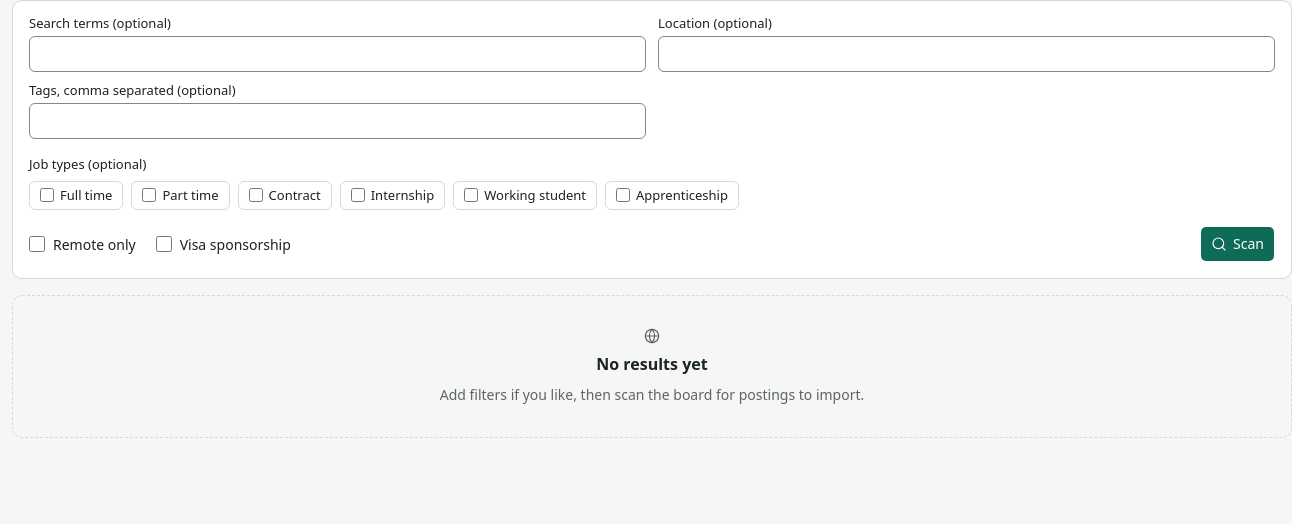
Test: ArbeitnowPage import › imports one row by its opaque id and disables its button after the import
What coordinates should you click on to do the following:
click the button with test id "arbeitnowScanButton"
I would click on:
 (1238, 244)
Its box is x1=1200 y1=226 x2=1275 y2=262.
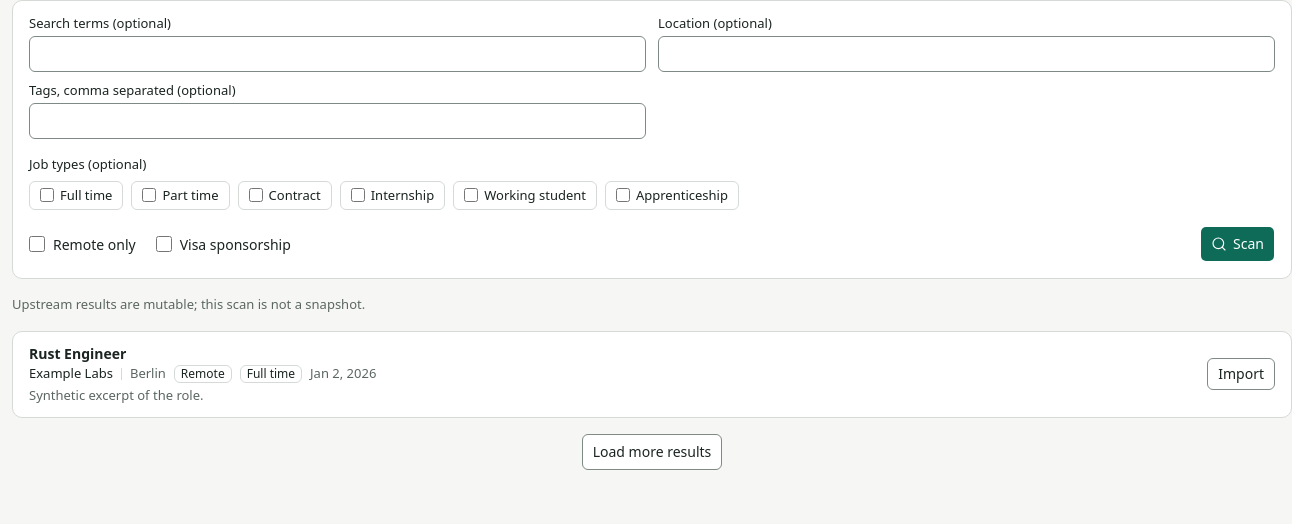
What coordinates should you click on to do the following:
click the button with test id "arbeitnowImportButton"
I would click on:
 (1241, 374)
Its box is x1=1207 y1=358 x2=1275 y2=390.
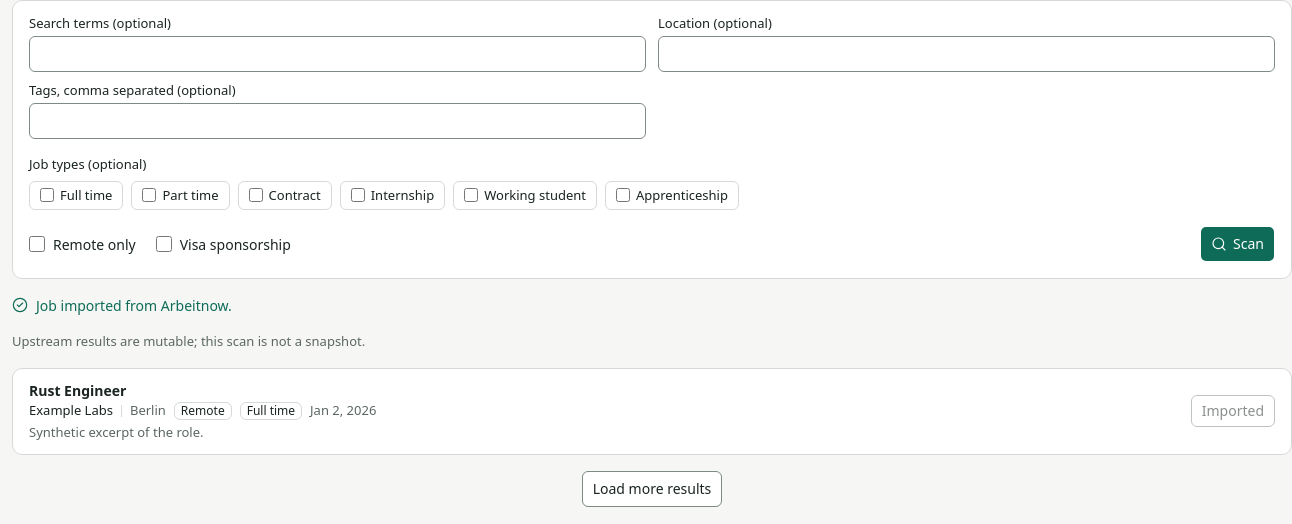
Expected: the button with test id "arbeitnowImportButton" reads "Imported", x1=1191 y1=395 x2=1275 y2=427
Expected: the button with test id "arbeitnowImportButton" is disabled, x1=1191 y1=395 x2=1275 y2=427
Expected: the message with test id "arbeitnowStatusLabel" reads "Job imported from Arbeitnow.", x1=36 y1=296 x2=232 y2=315
